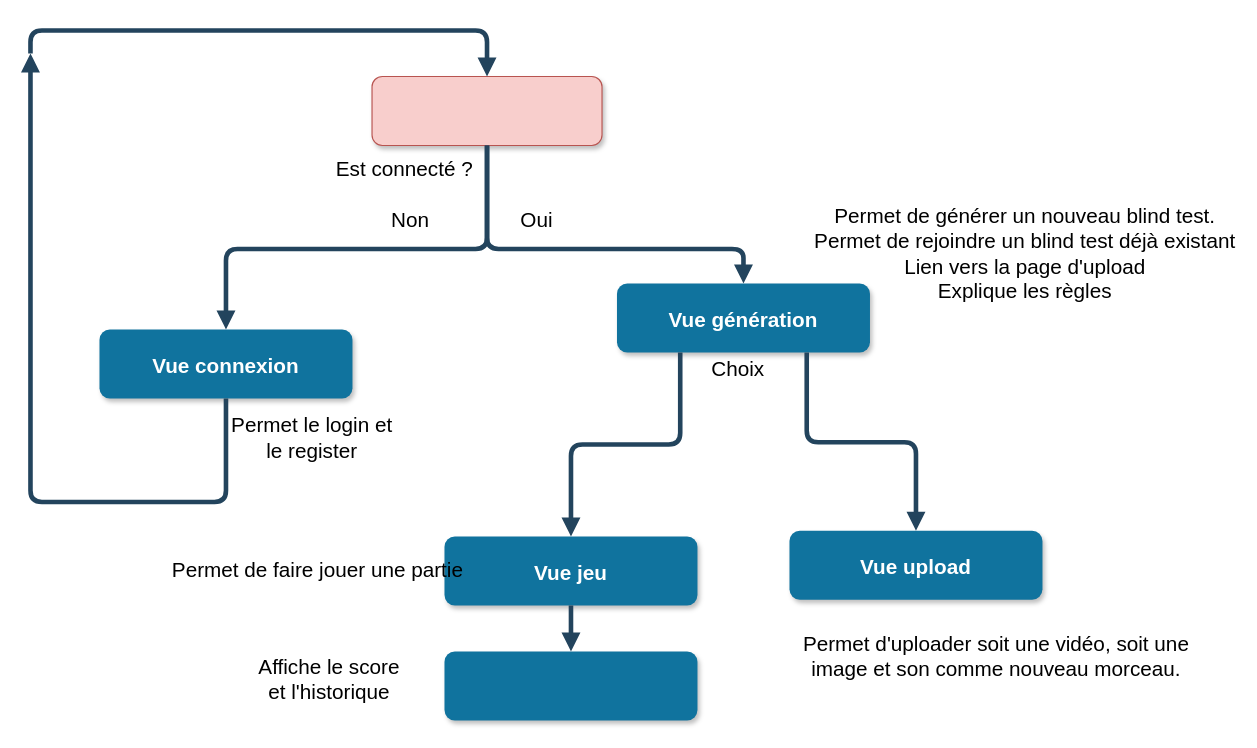
Some shapes in this 1257 by 748 pixel diagram are drawn without their labels. Each missing label, with the centre of its shape:
"Site" belongs at (487,112).
"Vue fin de jeu" belongs at (571,687).
